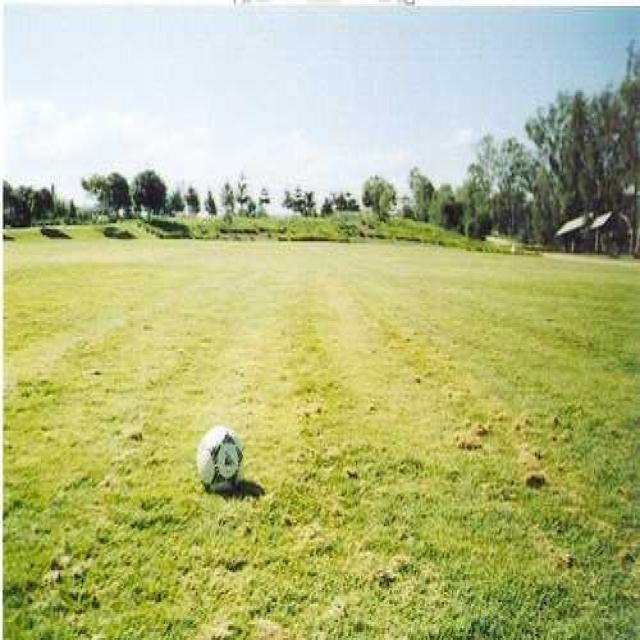ball: (196, 425, 242, 494)
